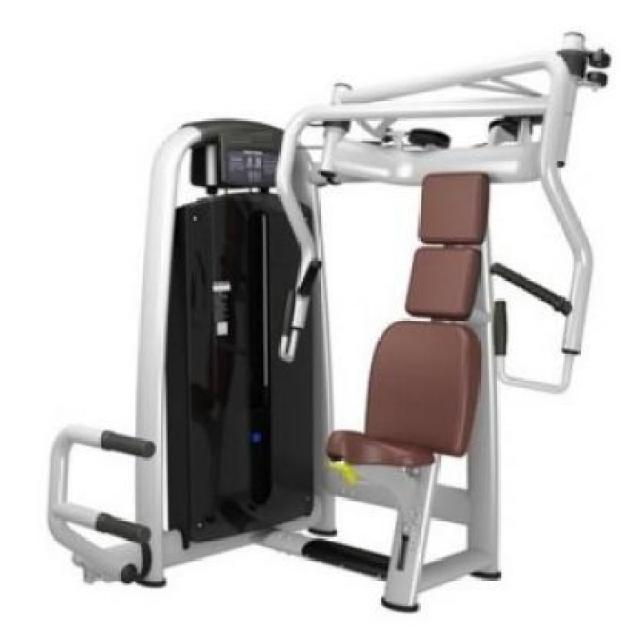Chest Press machine: (48, 14, 620, 618)
